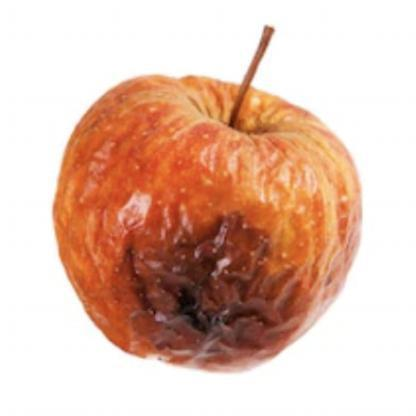apple_rotten: (46, 18, 370, 377)
